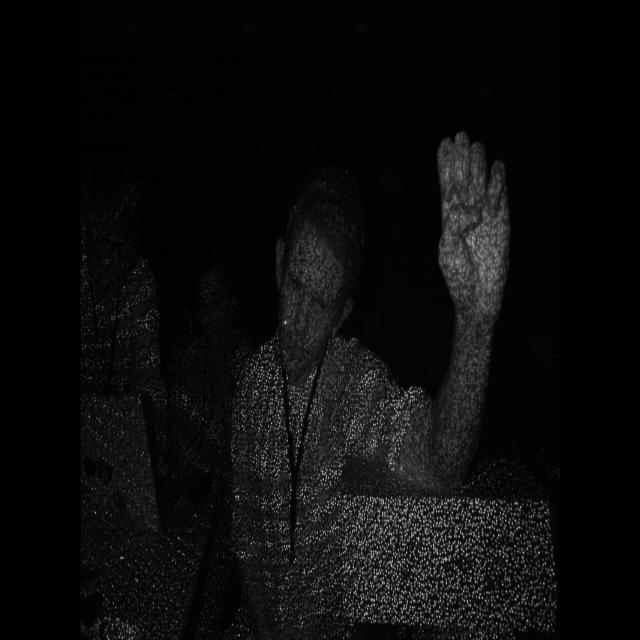E: (421, 122, 524, 336)
